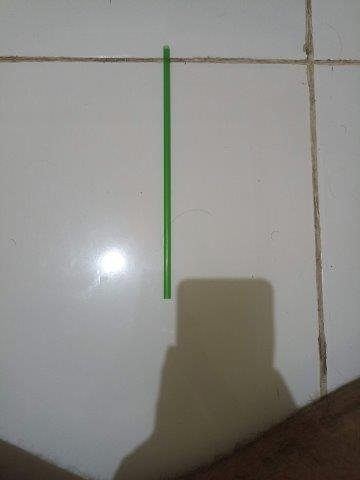sedotan: (163, 45, 172, 299)
